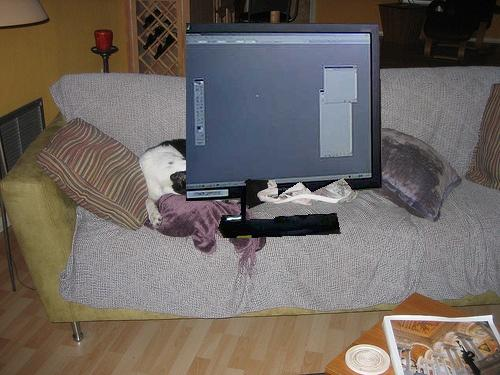tampered: (187, 24, 382, 238)
